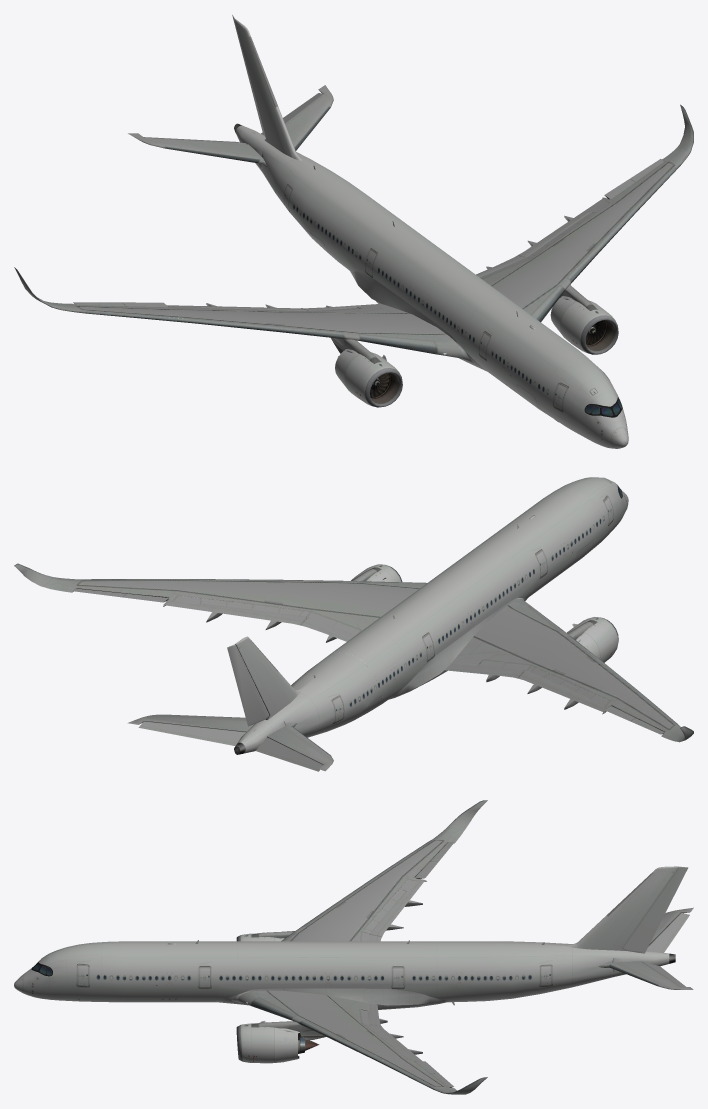
3 views of the same model, one above another, from view 1: azimuth 30°, elevation 25°; view 2: azimuth 150°, elevation 25°; view 3: azimuth 270°, elevation 25° (orthographic). The views are drawn at different scales.
Visible parts, largest first — view 1: Object_23; view 2: Object_23; view 3: Object_23.
Boxes of the visible parts, <box> form: Object_23: <box>14,15,693,448</box>; Object_23: <box>14,477,693,771</box>; Object_23: <box>14,800,693,1094</box>.
Size of the model in its own units: 64.74 by 16.51 by 67.11.
Materials: 3 (3 with a texture image).
